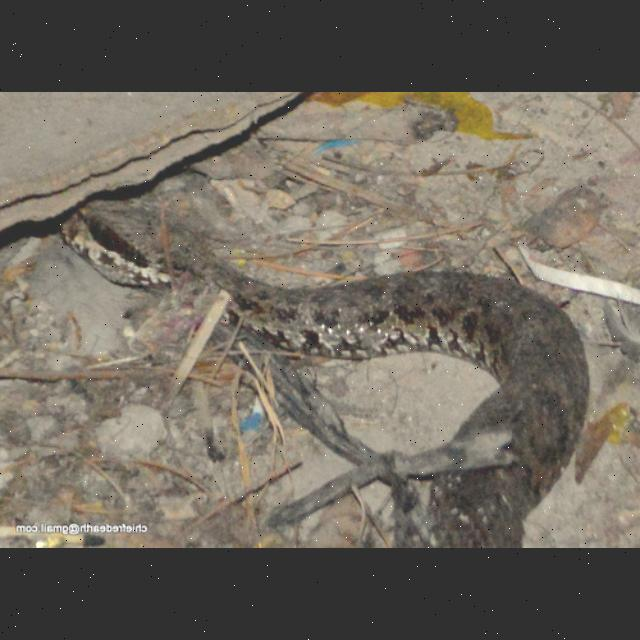snake: (45, 197, 592, 548)
